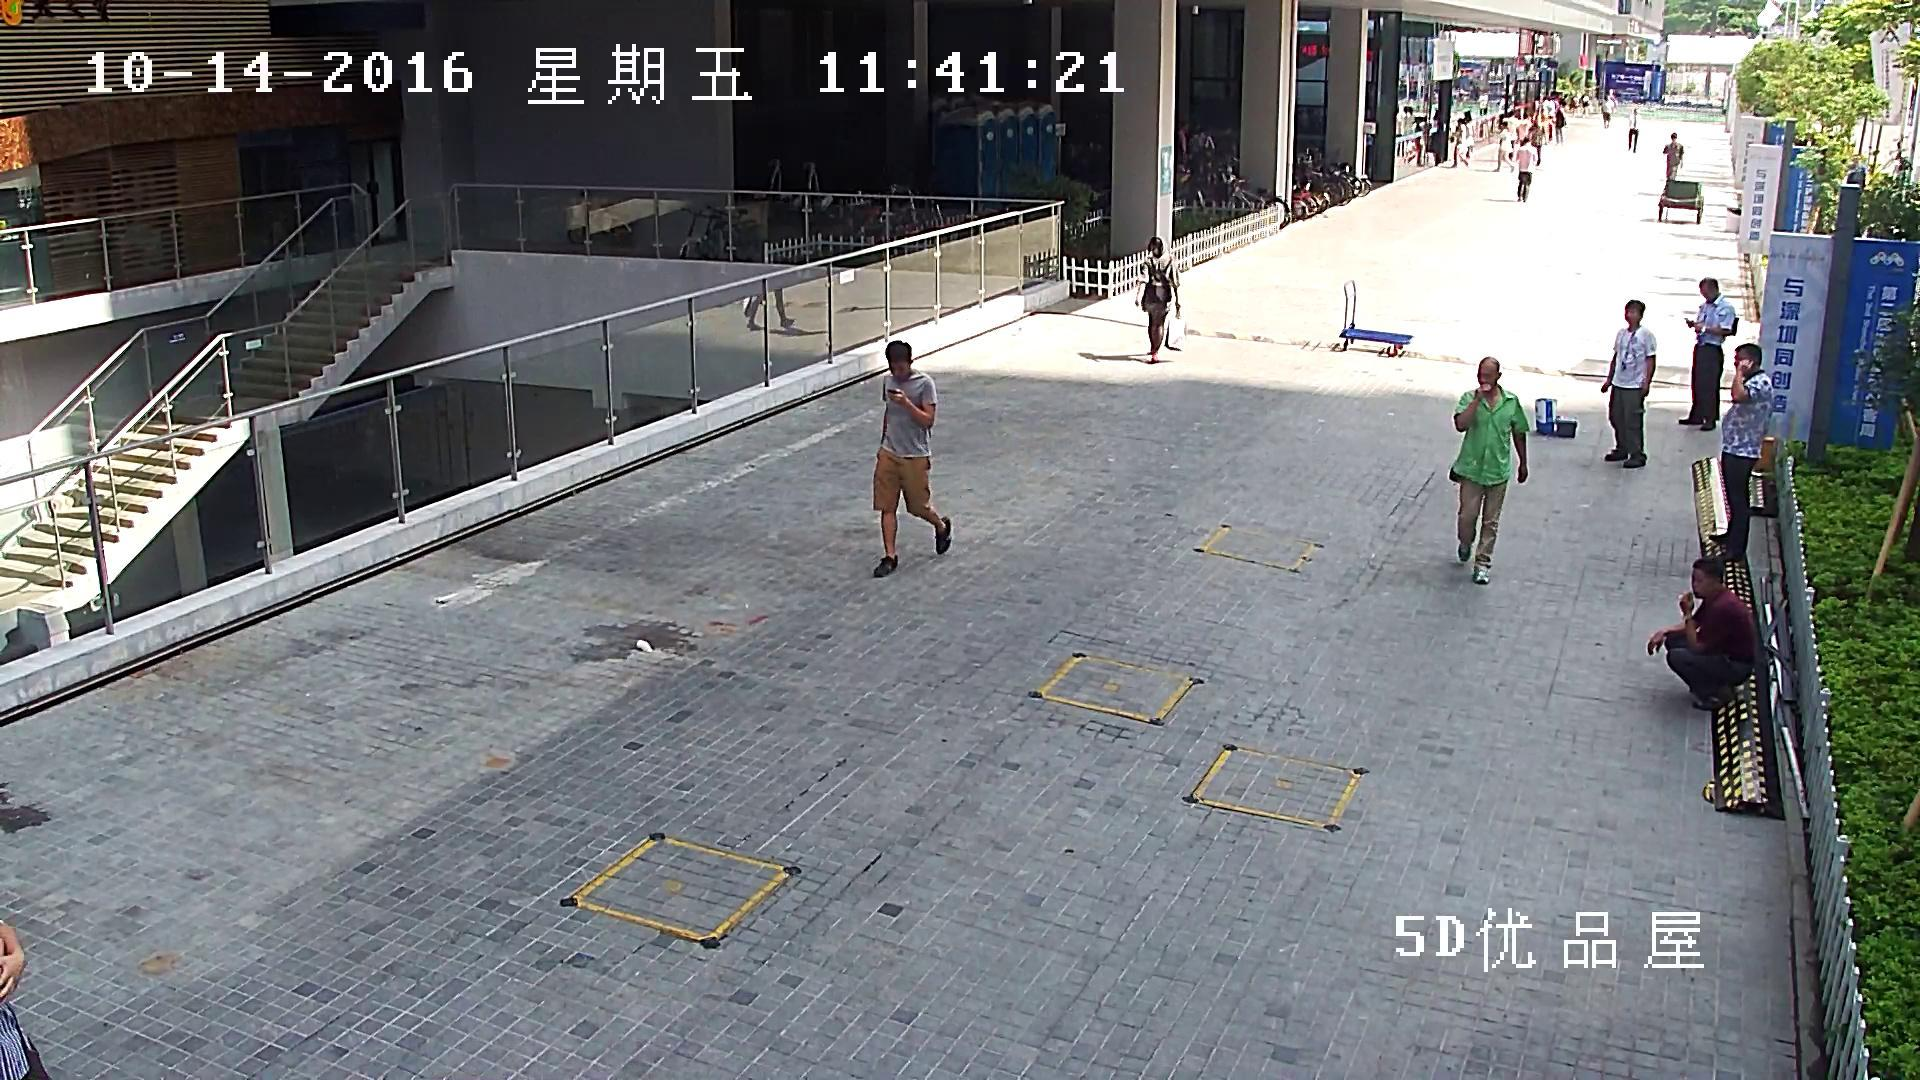person: (871, 339, 951, 576), (1449, 358, 1528, 583), (1647, 558, 1757, 710), (1708, 344, 1772, 560), (1600, 299, 1656, 467), (1679, 276, 1738, 430), (1134, 235, 1184, 362), (1135, 236, 1181, 361), (744, 289, 795, 329), (1515, 136, 1537, 202), (1187, 125, 1213, 166), (1662, 132, 1684, 180), (1493, 121, 1514, 171), (1450, 117, 1469, 168), (1407, 119, 1424, 167), (1527, 121, 1542, 165), (1627, 109, 1640, 153), (1507, 111, 1518, 159), (1601, 95, 1614, 128), (1518, 113, 1531, 146), (1556, 108, 1566, 143), (1537, 108, 1547, 144), (1466, 115, 1473, 158), (1547, 107, 1553, 141)
